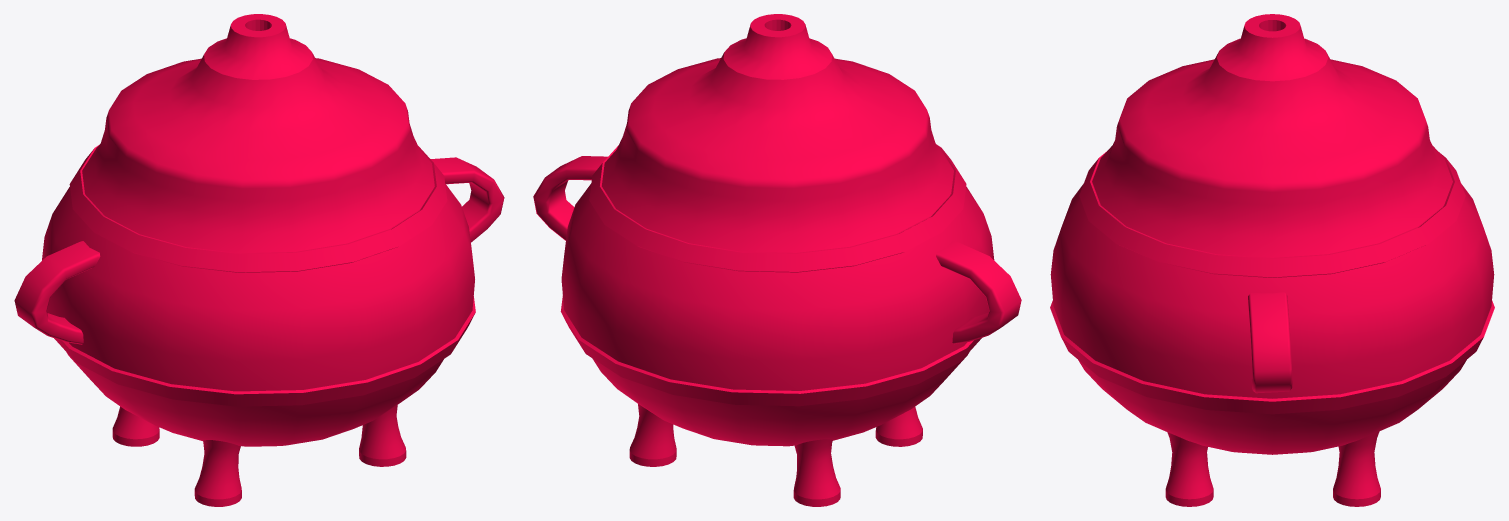
Rendered from Teapot.fbx.
The picture shows the model from 3 angles, left to right: view 1: azimuth 30°, elevation 25°; view 2: azimuth 150°, elevation 25°; view 3: azimuth 270°, elevation 25°; orthographic projection.
Visible parts, largest first — view 1: pSphere2, pSphere3, pCube10, pCube11, pCylinder4, pCylinder3, pCylinder5; view 2: pSphere2, pSphere3, pCube10, pCylinder5, pCube11, pCylinder6, pCylinder4; view 3: pSphere2, pSphere3, pCube11, pCylinder6, pCylinder3.
Part boxes in pixels (left/top/right/bottom): pSphere2: left=42, top=145, right=475, bottom=446; pSphere3: left=82, top=14, right=434, bottom=253; pCube10: left=14, top=241, right=100, bottom=344; pCube11: left=431, top=157, right=504, bottom=242; pCylinder4: left=194, top=440, right=241, bottom=506; pCylinder3: left=359, top=405, right=406, bottom=466; pCylinder5: left=112, top=406, right=159, bottom=446; pSphere2: left=560, top=145, right=994, bottom=446; pSphere3: left=602, top=14, right=953, bottom=252; pCube10: left=936, top=240, right=1021, bottom=344; pCylinder5: left=793, top=439, right=840, bottom=506; pCube11: left=533, top=156, right=607, bottom=240; pCylinder6: left=629, top=404, right=676, bottom=466; pCylinder4: left=875, top=407, right=922, bottom=446; pSphere2: left=1050, top=151, right=1494, bottom=454; pSphere3: left=1092, top=14, right=1452, bottom=257; pCube11: left=1248, top=292, right=1292, bottom=393; pCylinder6: left=1333, top=431, right=1380, bottom=506; pCylinder3: left=1165, top=432, right=1213, bottom=506.
Bounding box in the file's own units: 0.7375 × 0.6282 × 0.5895.
